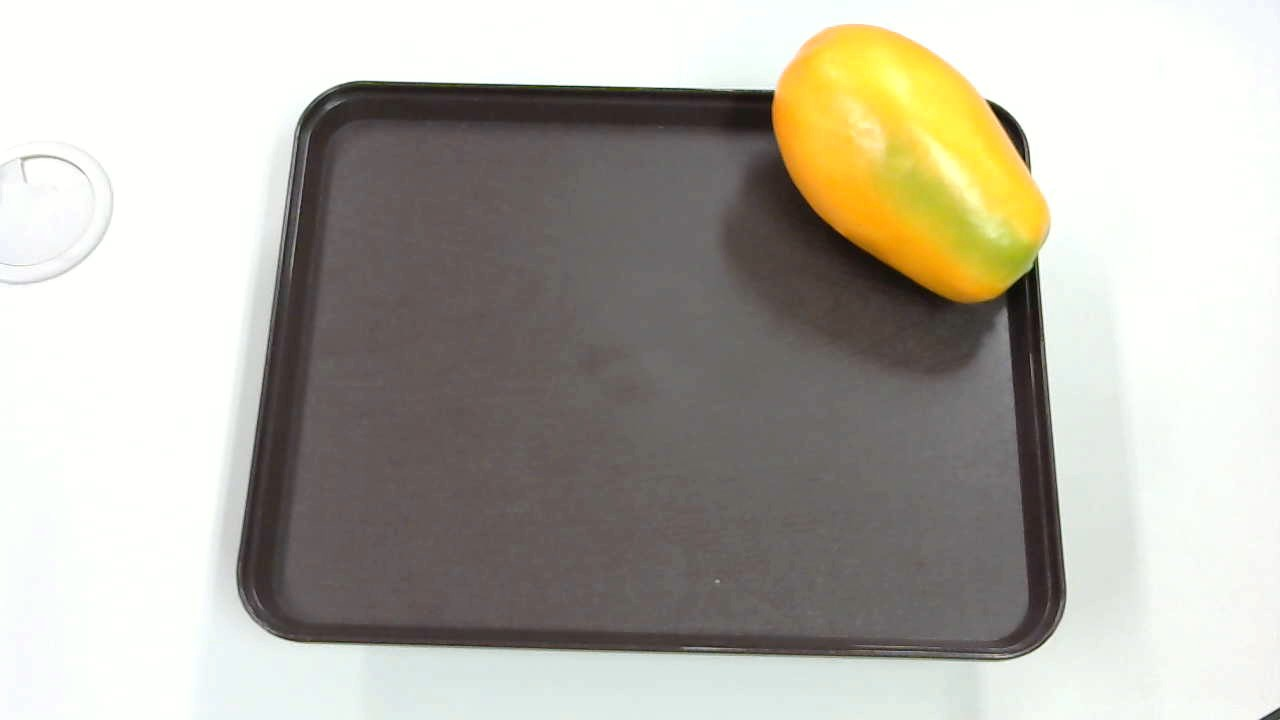papya: (761, 15, 1057, 324)
